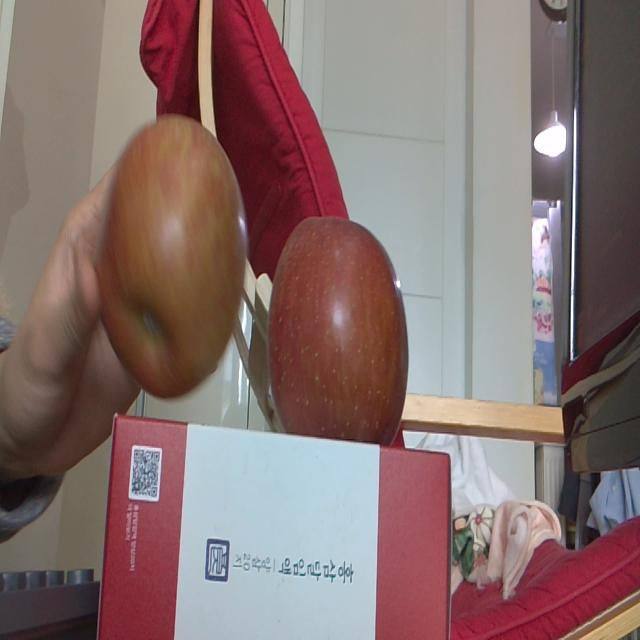apple: (98, 113, 247, 399), (269, 214, 408, 432)
